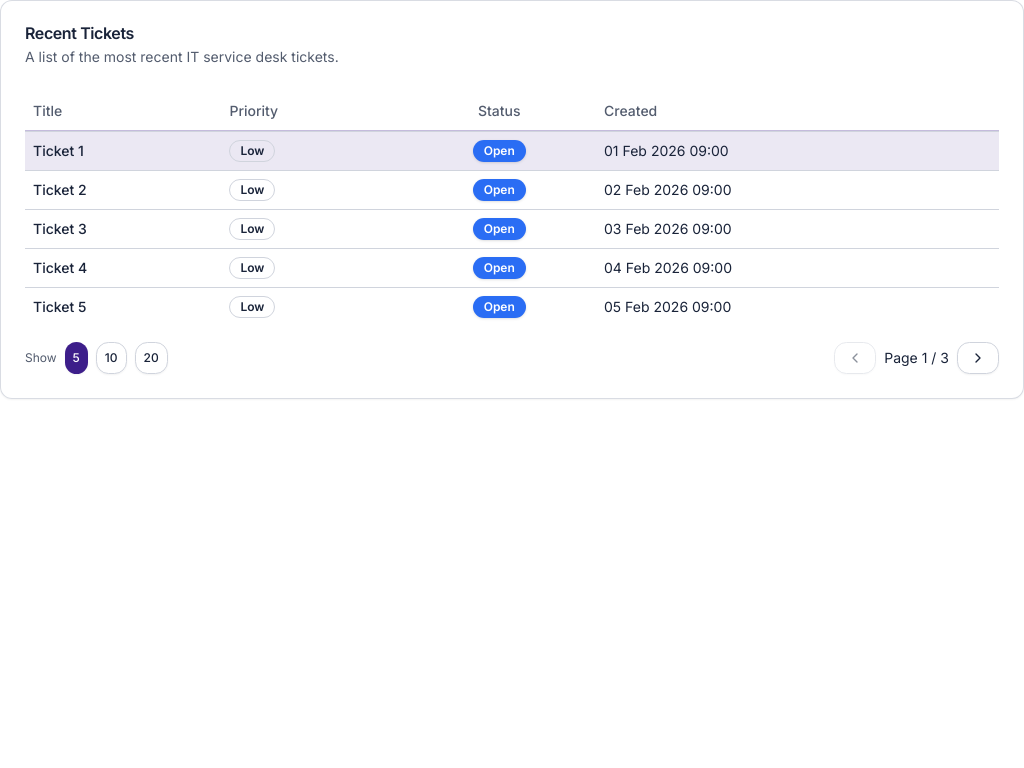
RecentTicketsTable › paginates when ticket count exceeds page size
The width and height of the screenshot is (1024, 768).
expect the text "Page 1 / 3" is shown: met, box [884, 348, 949, 368]
expect the text "Ticket 1" is shown: met, box [25, 131, 221, 170]
Click the button "10": click(111, 358) [96, 342, 126, 374]
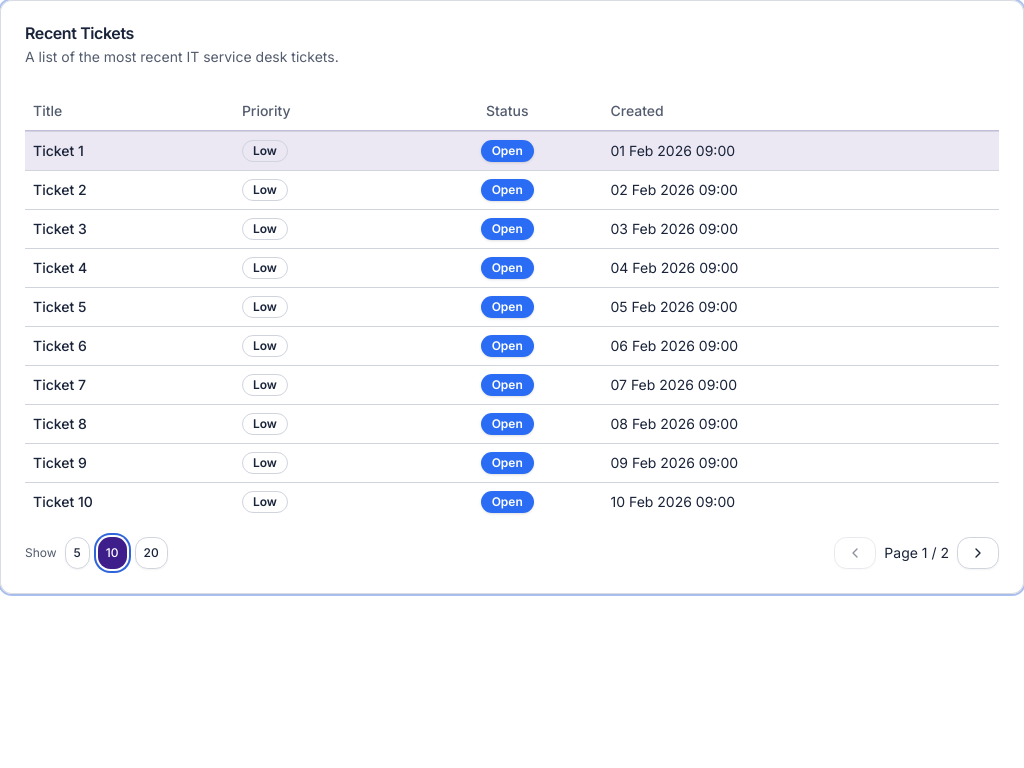
expect the text "Page 1 / 2" is shown: met, box [884, 542, 949, 562]
expect the text "Ticket 10" is shown: met, box [25, 482, 234, 520]
